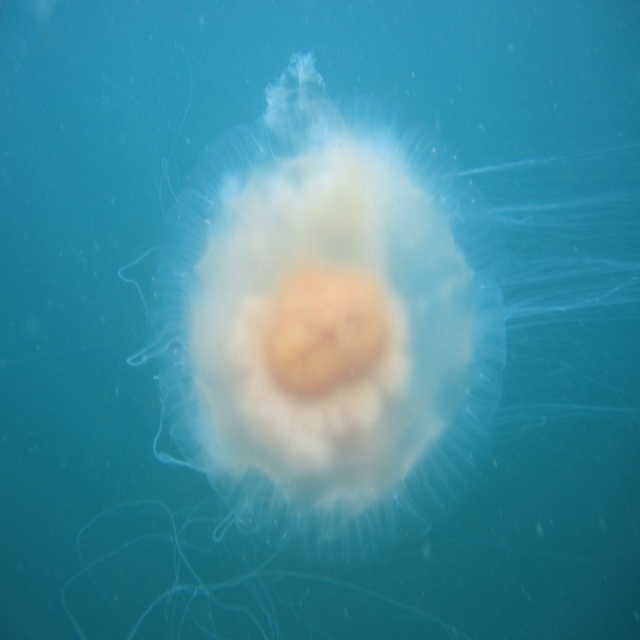Jellyfish: (59, 44, 640, 639)
